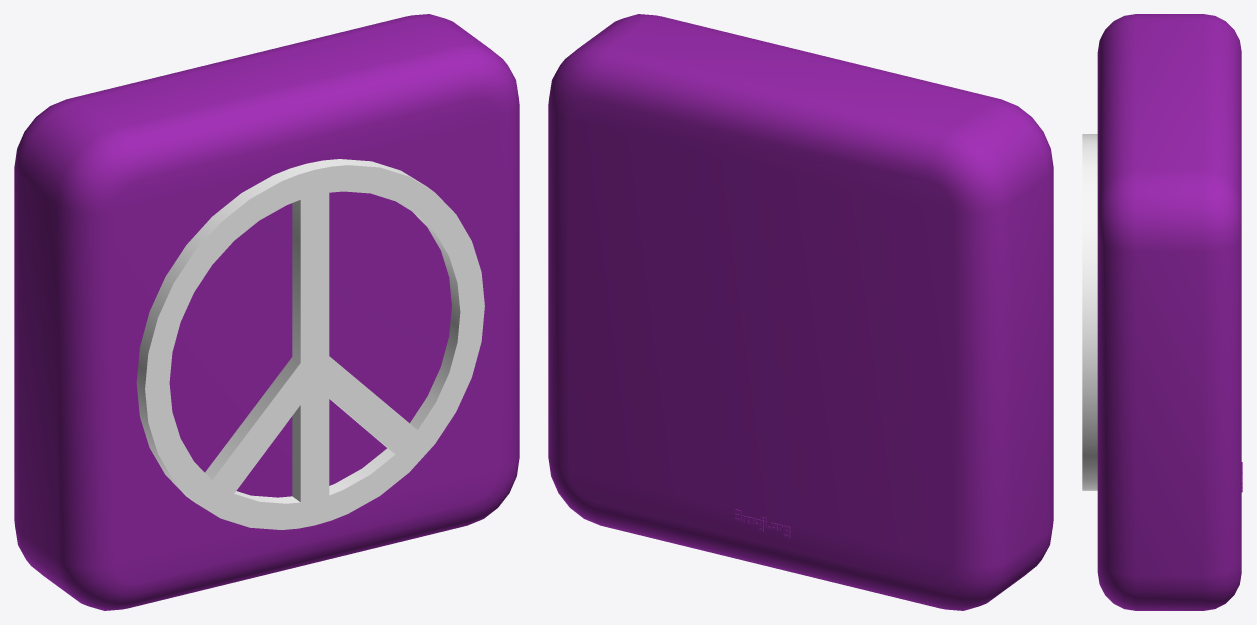
File: peace_symbol.fbx
3 views of the same model, side by side, from view 1: azimuth 30°, elevation 25°; view 2: azimuth 150°, elevation 25°; view 3: azimuth 270°, elevation 25° (orthographic). The views are drawn at different scales.
Parts seen in each view (by area): view 1: Cube.6395; view 2: Cube.6395; view 3: Cube.6395.
Part boxes in pixels (left/top/right/bottom): Cube.6395: left=14, top=14, right=519, bottom=610; Cube.6395: left=548, top=14, right=1053, bottom=610; Cube.6395: left=1082, top=14, right=1242, bottom=610.
Size of the model in its own units: 220 by 220 by 73.37.
1 material, 1 textured.
